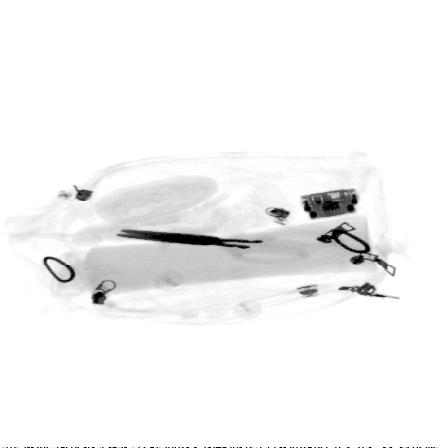Scissors: (115, 227, 334, 268)
